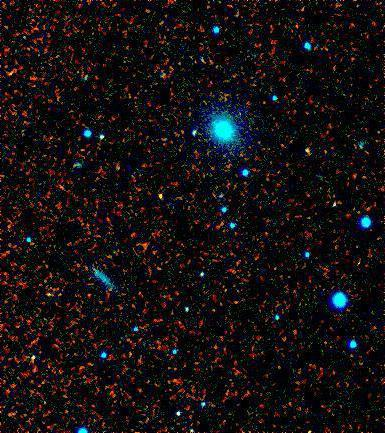star: (140, 179, 170, 209)
